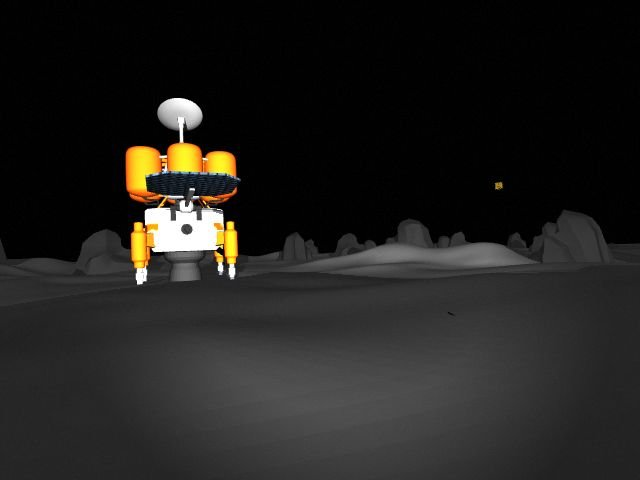homebase: (121, 95, 243, 288)
